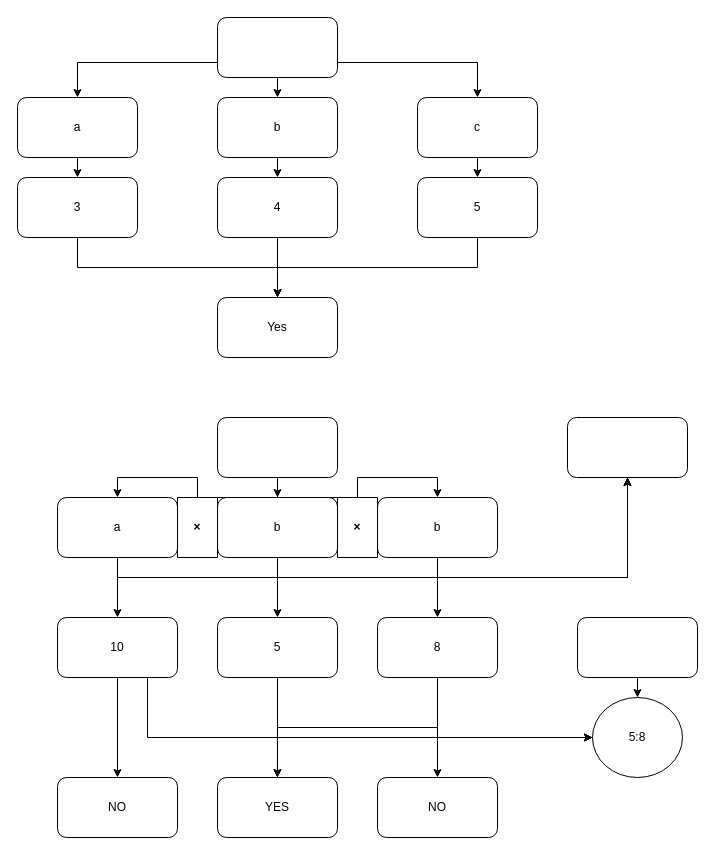
This 715x855 diagram has some shape labels left out. Each missing label, with the centre of its shape:
Doorway size x × y: point 637,647
Even and odd numbers: point 277,47
The size of Wardrobe a × b × c: point 627,447
Wardrobe: point 277,447
